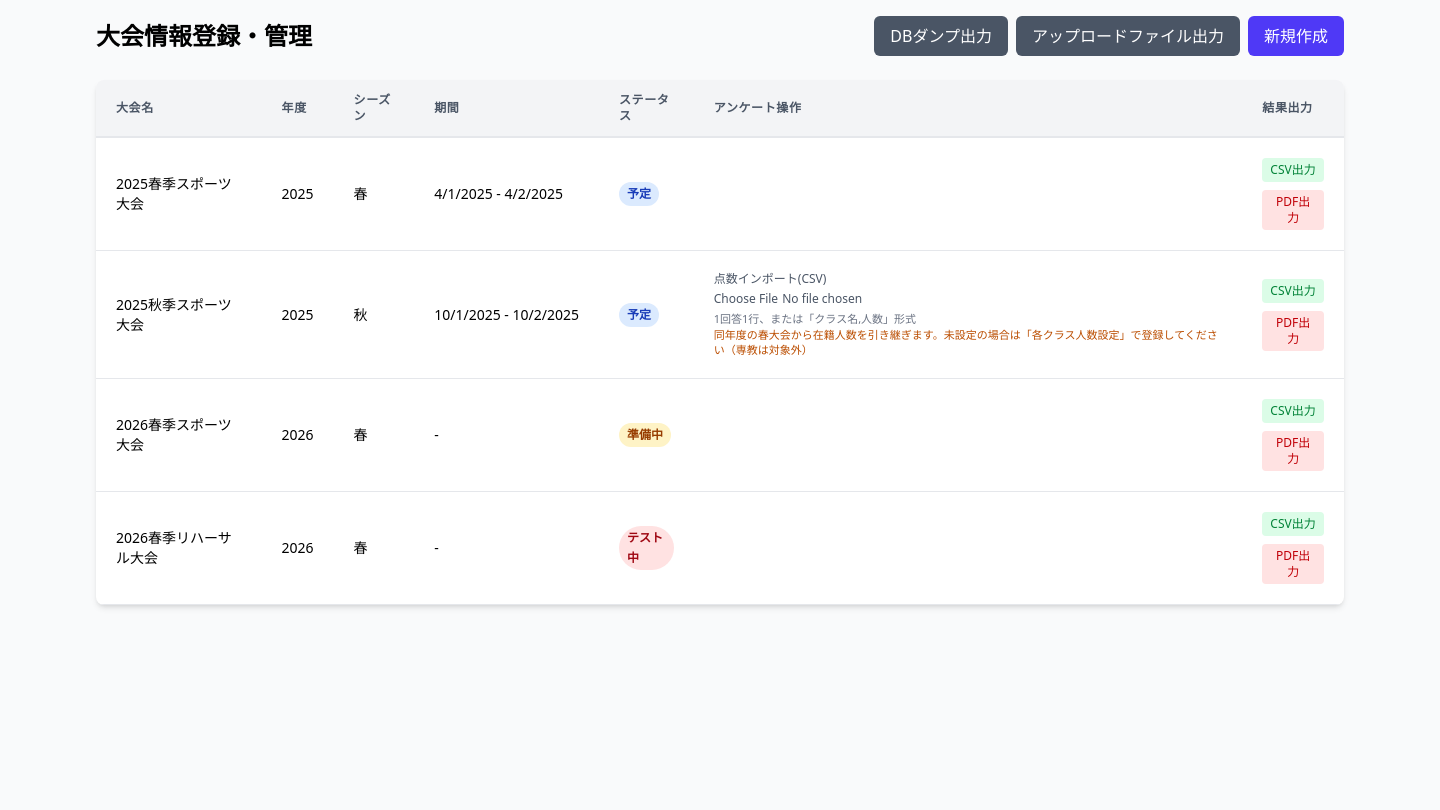
Test: Event Management Page › イベント行をクリックすると編集モーダルが開くこと
The image size is (1440, 810).
一覧の行をクリック
What coordinates should you click on to do the following:
click the text "2025春季スポーツ大会"
I would click on:
 (179, 194)
Its box is [96, 137, 262, 250].
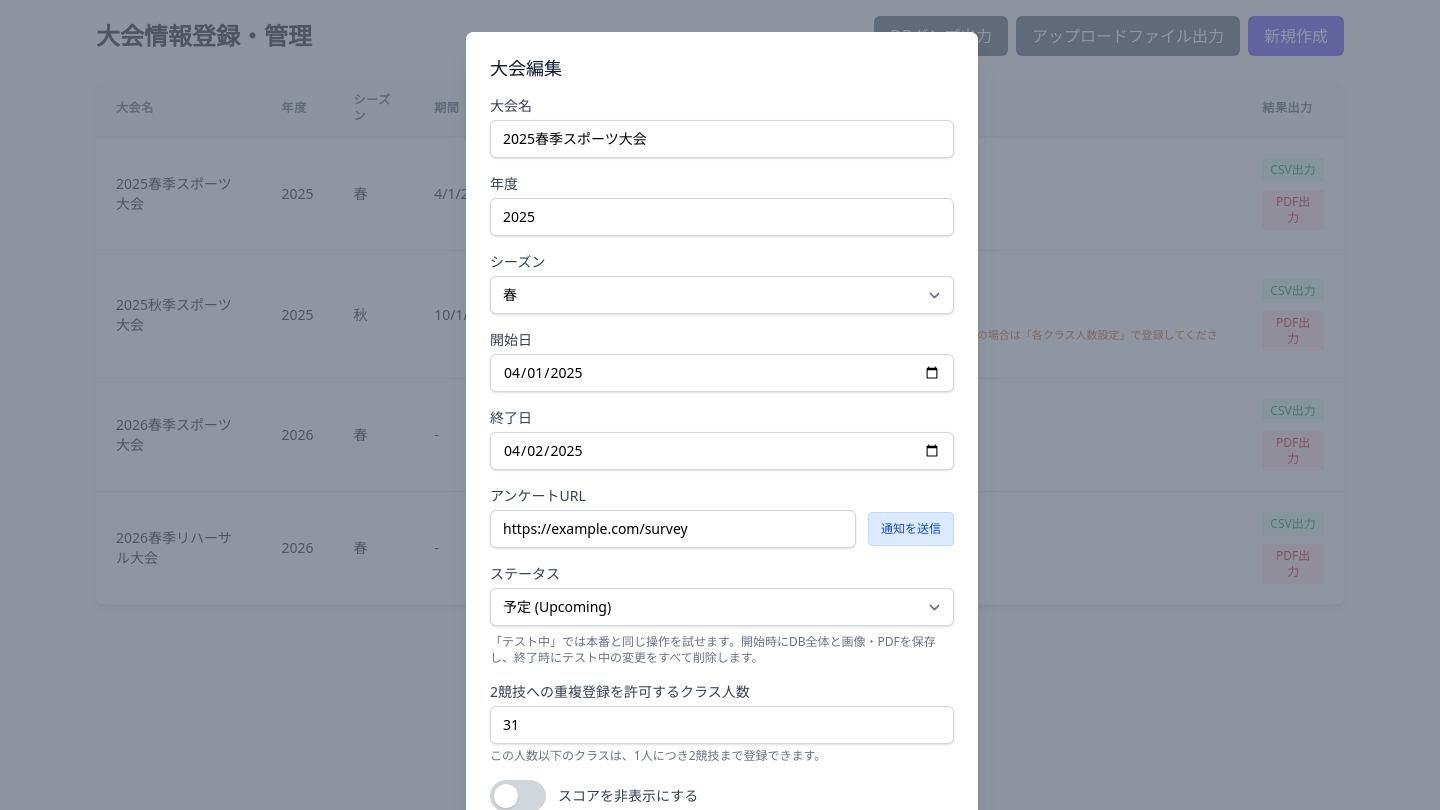
Expected: the heading "大会編集" is shown, [490, 56, 562, 80]
Expected: the field labelled "大会名" holds "2025春季スポーツ大会", [490, 120, 954, 158]
